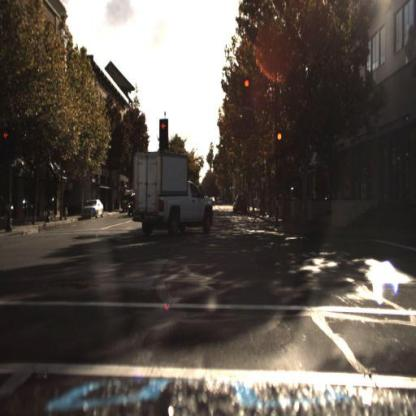car: (133, 150, 214, 237), (81, 196, 106, 220), (81, 200, 101, 221), (234, 193, 252, 211), (234, 197, 246, 214)
trafficLight: (245, 79, 250, 103)
trafficLight-Red: (276, 135, 284, 158)
trafficLight-RedLeft: (161, 120, 170, 150)
